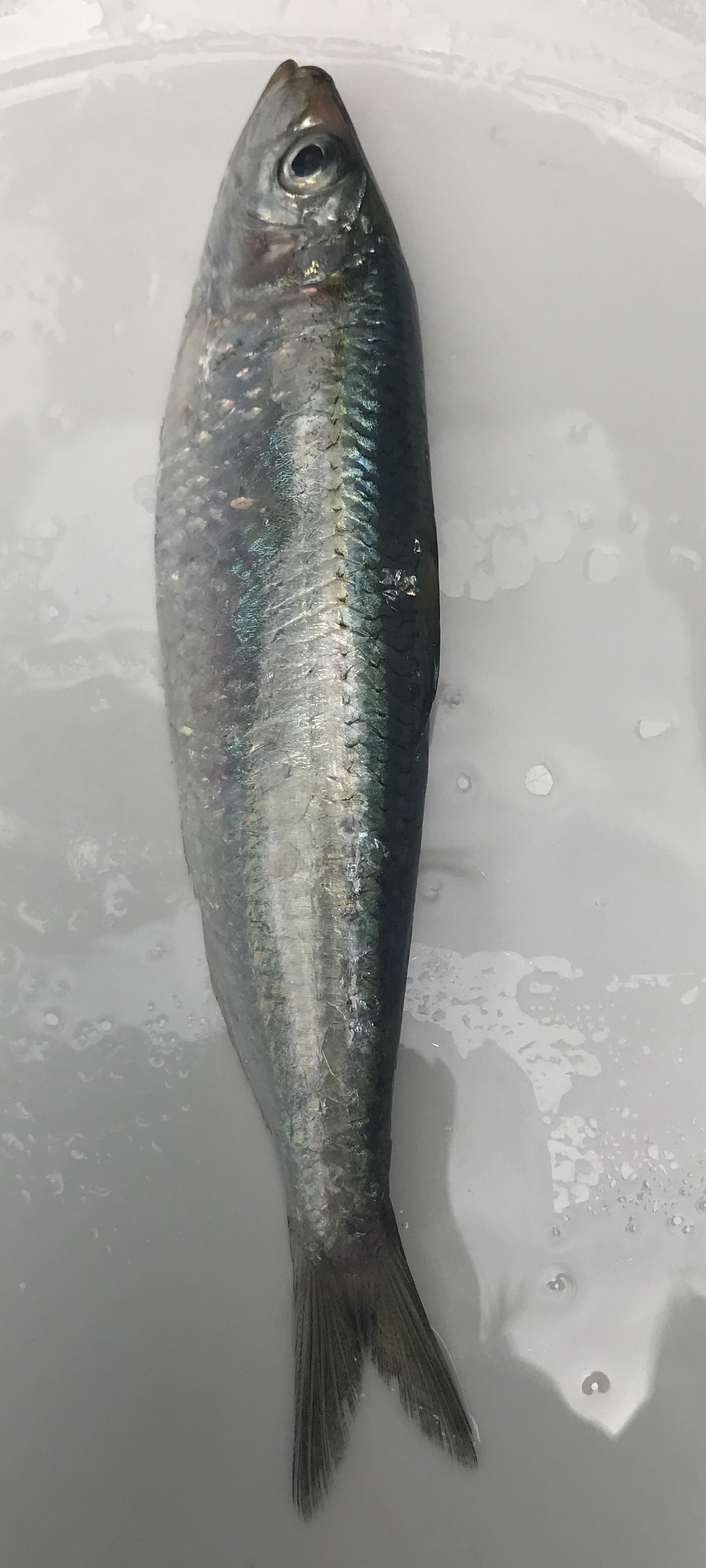tamban_not_dried: (0, 59, 706, 1568)
